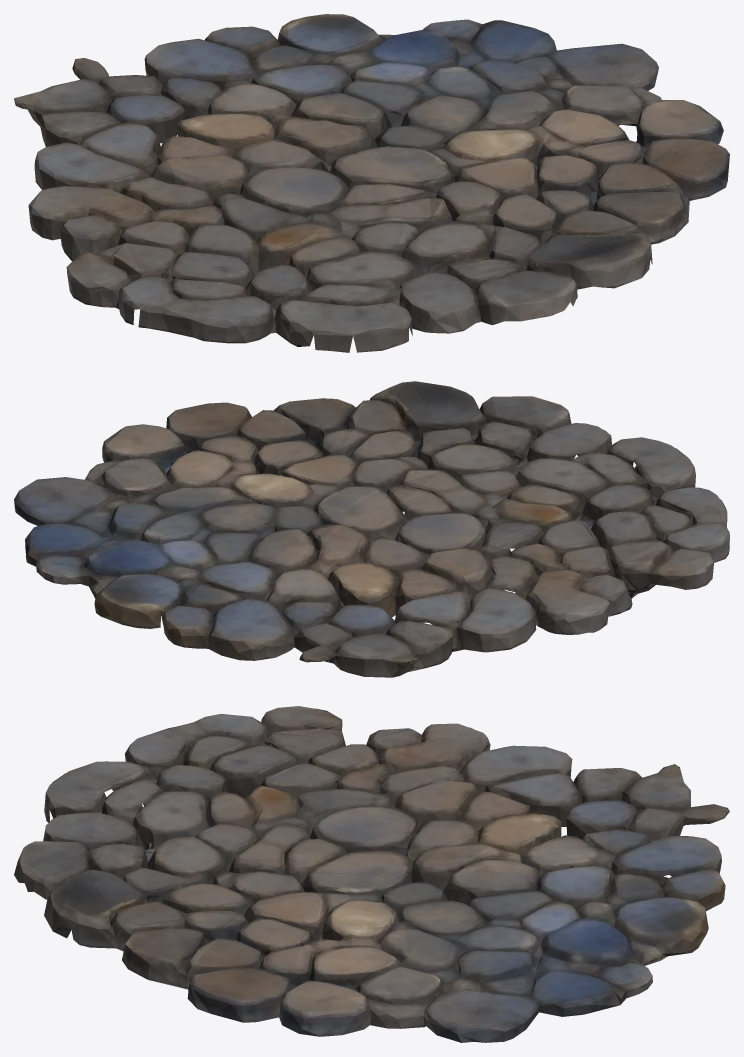
The picture shows the model from 3 angles, top to bottom: view 1: azimuth 30°, elevation 25°; view 2: azimuth 150°, elevation 25°; view 3: azimuth 270°, elevation 25°; orthographic projection. The views are drawn at different scales.
Visible parts, largest first — view 1: world; view 2: world; view 3: world.
Part boxes in pixels (x1,y1,x2,y2): world: (14,14,729,352); world: (14,381,729,677); world: (14,706,729,1042).
Bounding box in the file's own units: 0.9938 × 0.0657 × 0.9448.
Materials: 1 (1 with a texture image).
